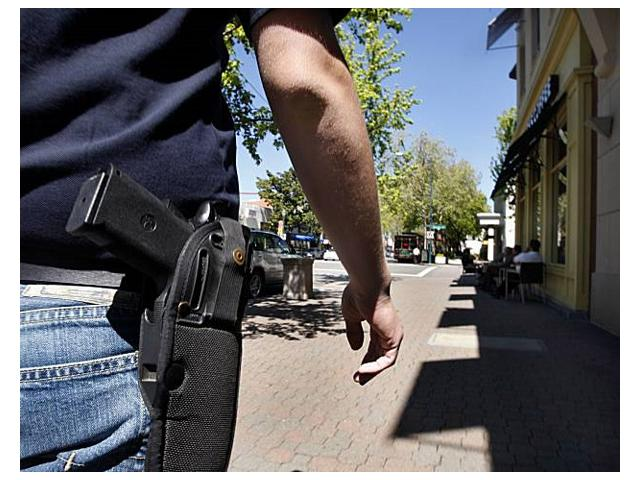pistol: (61, 163, 254, 472)
